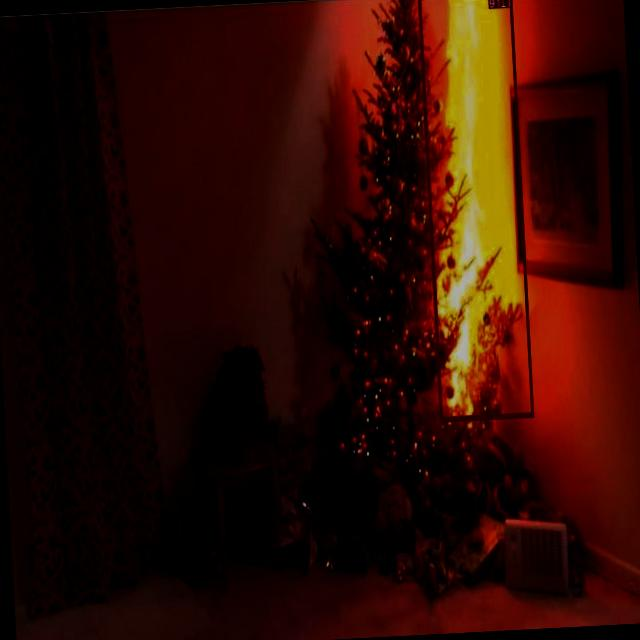fire: (418, 0, 535, 421)
